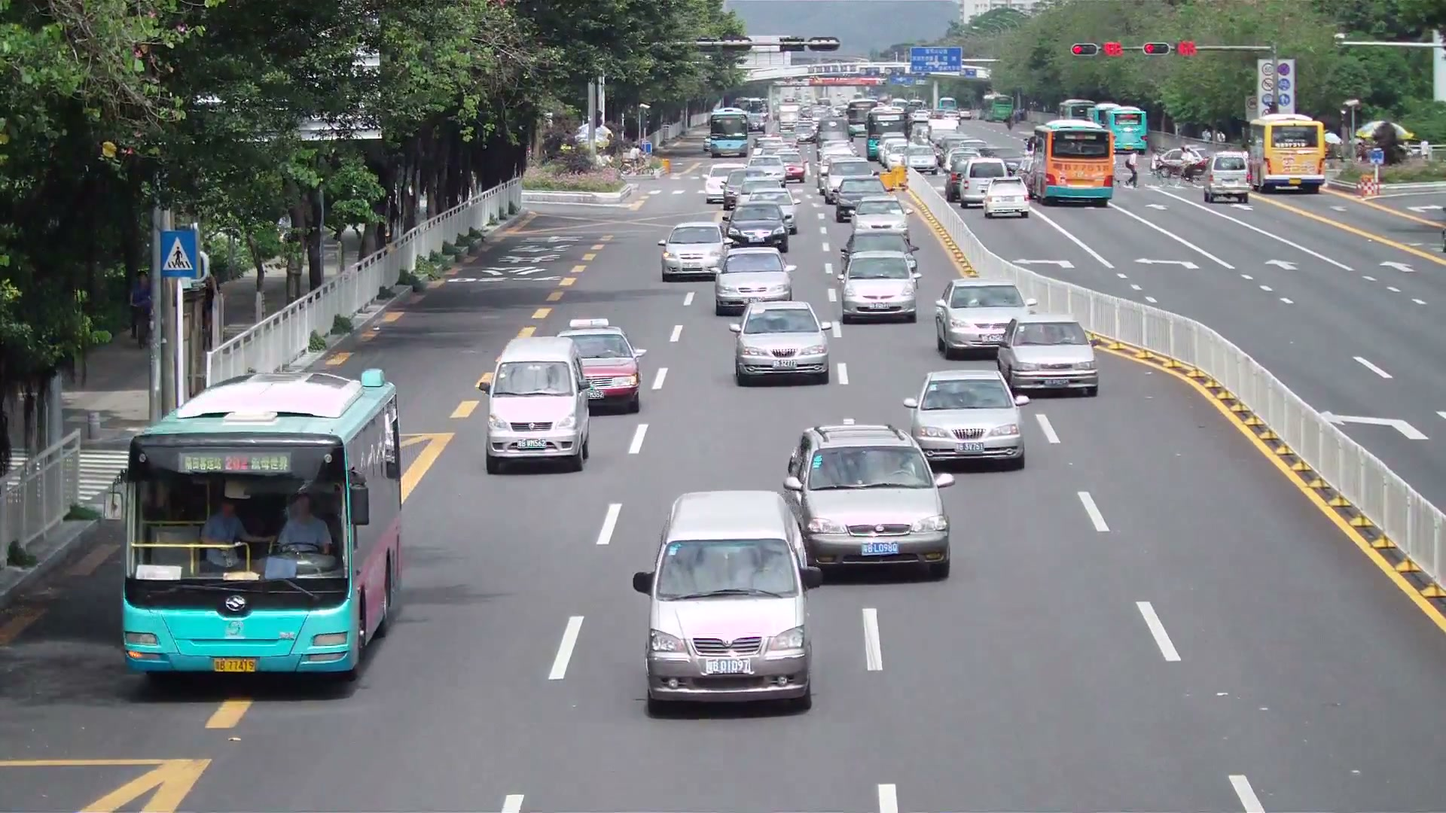bus: (119, 366, 407, 681), (1027, 118, 1115, 206)
car: (635, 490, 819, 716), (782, 422, 954, 581), (482, 334, 593, 474), (903, 365, 1026, 471), (995, 314, 1100, 399), (734, 299, 831, 387), (932, 280, 1033, 361), (565, 324, 642, 413), (840, 244, 921, 324), (714, 247, 794, 316), (659, 220, 727, 280), (725, 203, 791, 251), (982, 181, 1030, 219)
pedestrian: (201, 495, 248, 572), (277, 493, 334, 553), (203, 496, 246, 541)
truck: (1023, 120, 1114, 206), (1244, 114, 1330, 193), (1205, 150, 1252, 203)
